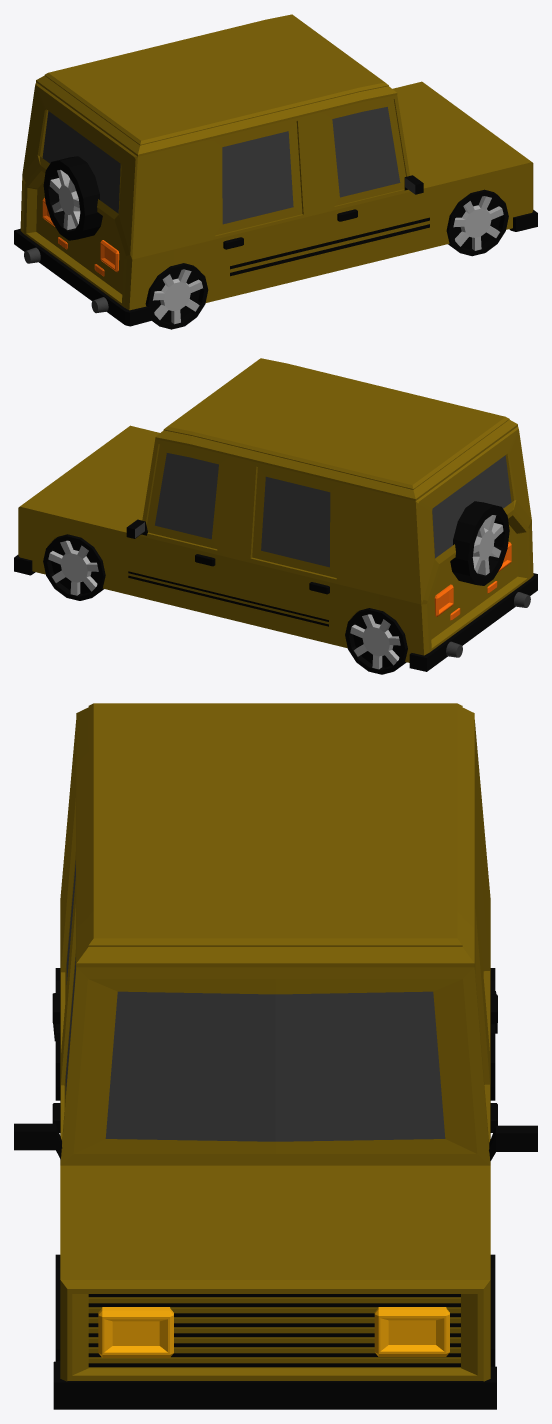
The model's file is fl_wheel_2.glb.
The picture shows the model from 3 angles, top to bottom: view 1: azimuth 30°, elevation 25°; view 2: azimuth 150°, elevation 25°; view 3: azimuth 270°, elevation 25°; orthographic projection. The views are drawn at different scales.
Parts seen in each view (by area): view 1: FL WHEEL.003_BODY.017_0; view 2: FL WHEEL.003_BODY.017_0; view 3: FL WHEEL.003_BODY.017_0.
Boxes of the visible parts, box(x1,y1,x2,y2) form: FL WHEEL.003_BODY.017_0: box(14, 14, 537, 329); FL WHEEL.003_BODY.017_0: box(14, 358, 537, 674); FL WHEEL.003_BODY.017_0: box(14, 703, 537, 1409).
Size of the model in its own units: 0.7021 by 0.2979 by 0.3877.
Materials: 1 (1 with a texture image).
